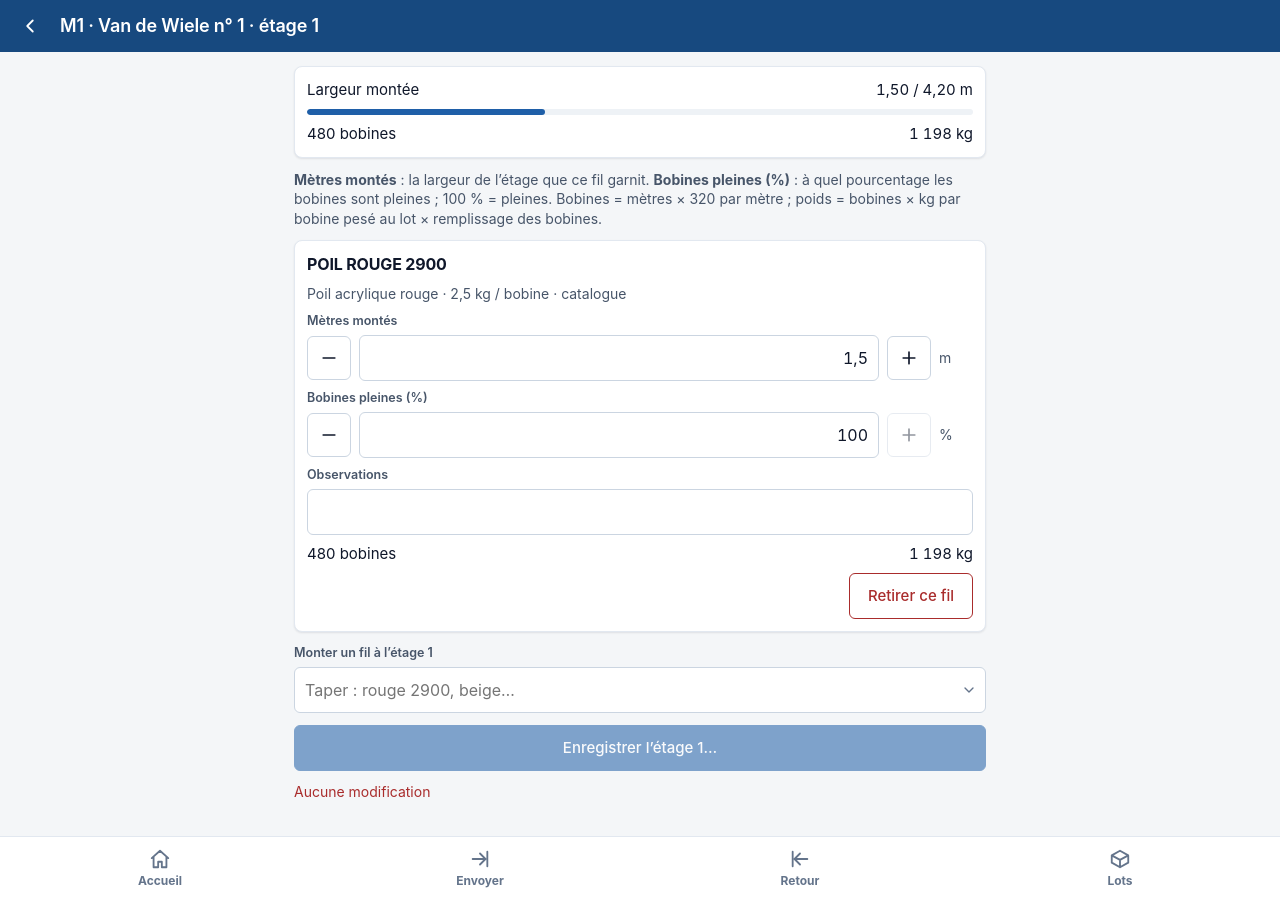
Test case: Monter les fils › version périmée : le message dit de recharger, « Recharger l’étage » repart du serveur
The image size is (1280, 900).
(page scrolled)
Step 1. Click the button "Retirer ce fil" → (911, 596), box [849, 573, 973, 619]
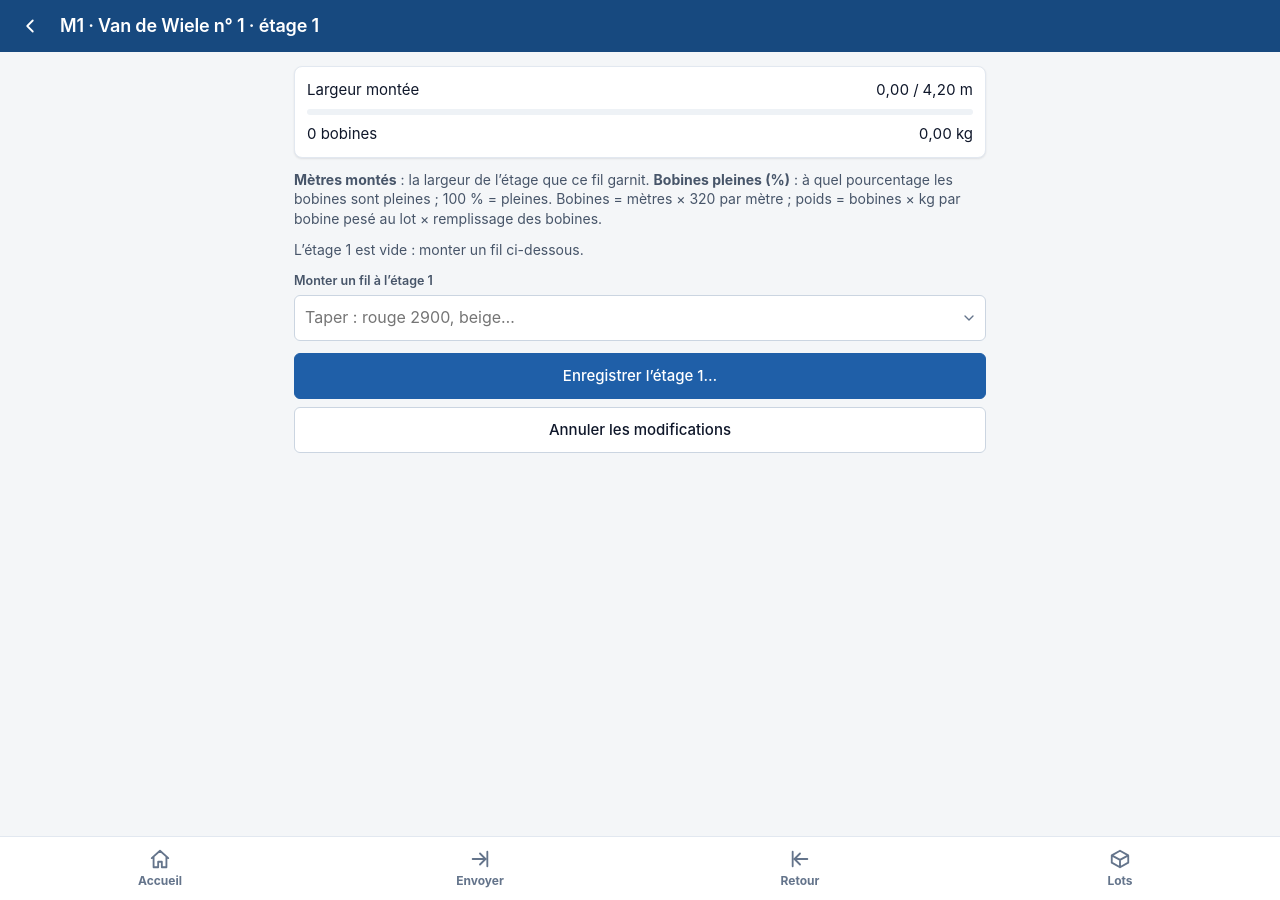
Step 2. Click the button "Enregistrer l’étage 1…" → (640, 376), box [294, 353, 986, 399]
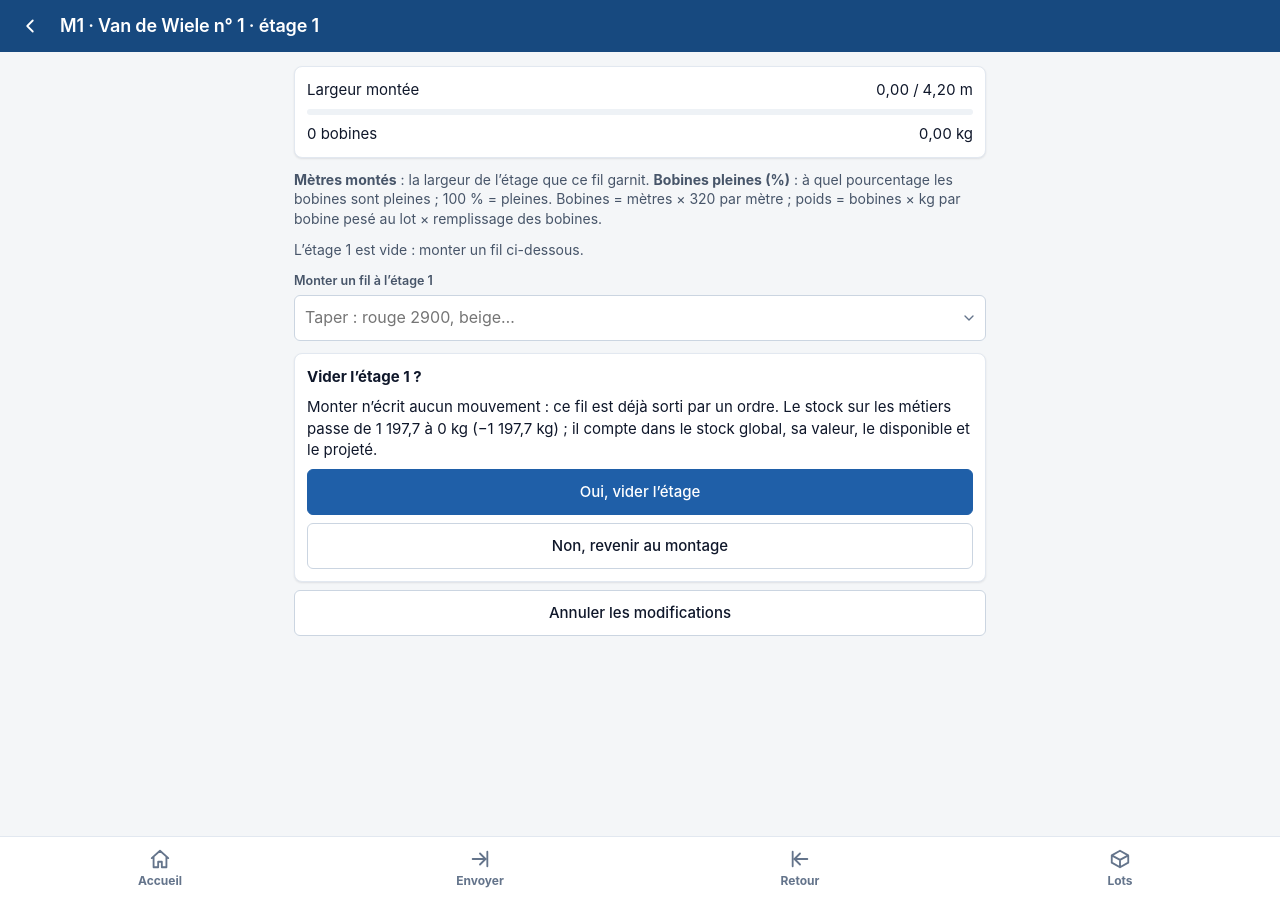
Check: the text "Vider l’étage 1 ?" is shown, box [307, 367, 422, 386]
Step 3. Click the button "Oui, vider l’étage" → (640, 492), box [307, 469, 973, 515]
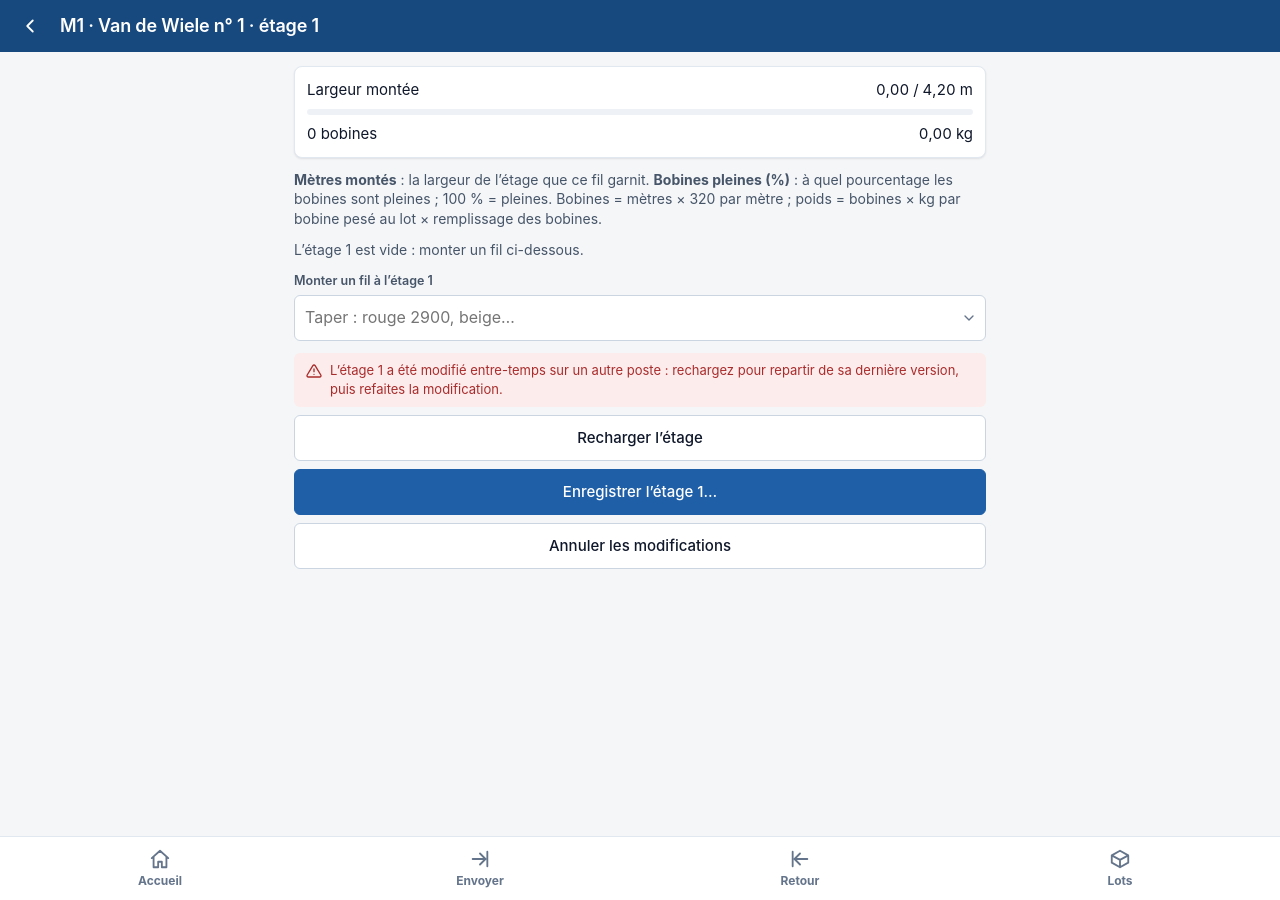
Check: the text "L’étage 1 a été modifié entre-temps sur un autre poste : rechargez" is shown, box [330, 362, 959, 397]
Step 4. Click the button "Recharger l’étage" → (640, 438), box [294, 415, 986, 461]
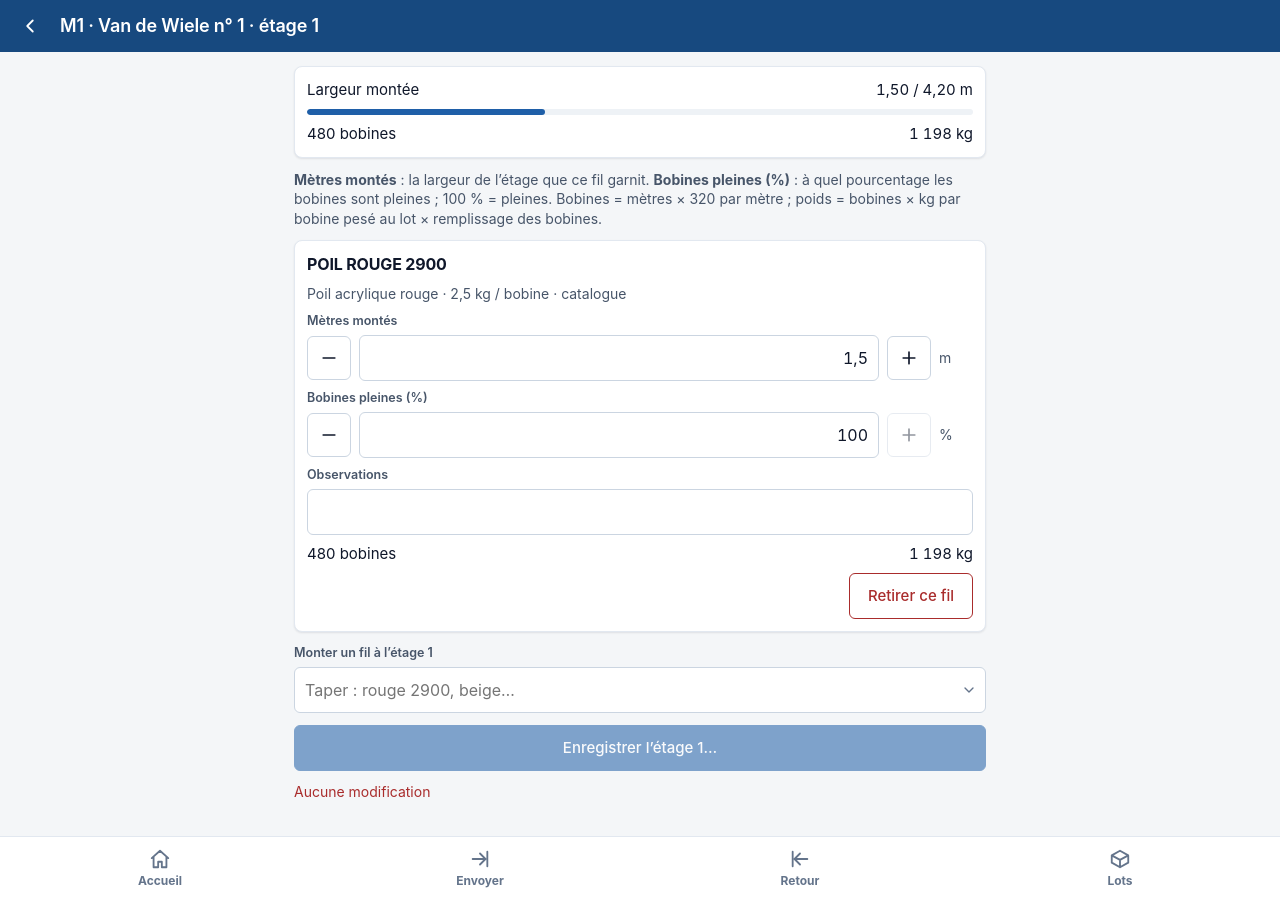
Check: the field named "Mètres montés de POIL ROUGE 2900" is shown, box [359, 335, 879, 381]
